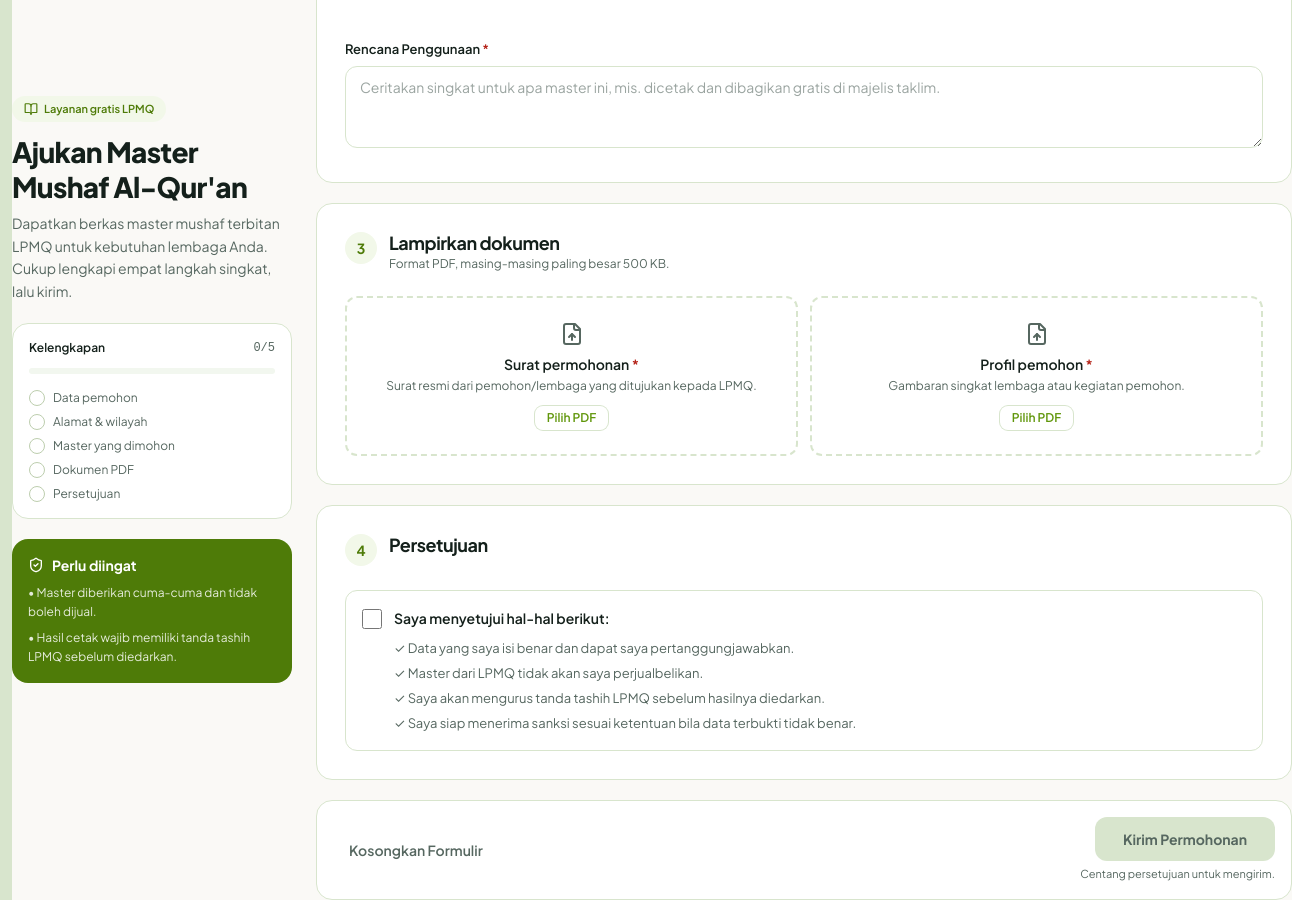
Test: MasterRequestForm (formulir permohonan master penerbit) › tombol Kirim Permohonan nonaktif sampai pernyataan dicentang
The image size is (1292, 900).
(page scrolled)
expect the button "Kirim Permohonan" is disabled: met, box [1095,817,1275,861]
Click the checkbox named "menyetujui pernyataan" at {"x": 372, "y": 619}, box [362,609,382,629]
(page scrolled)
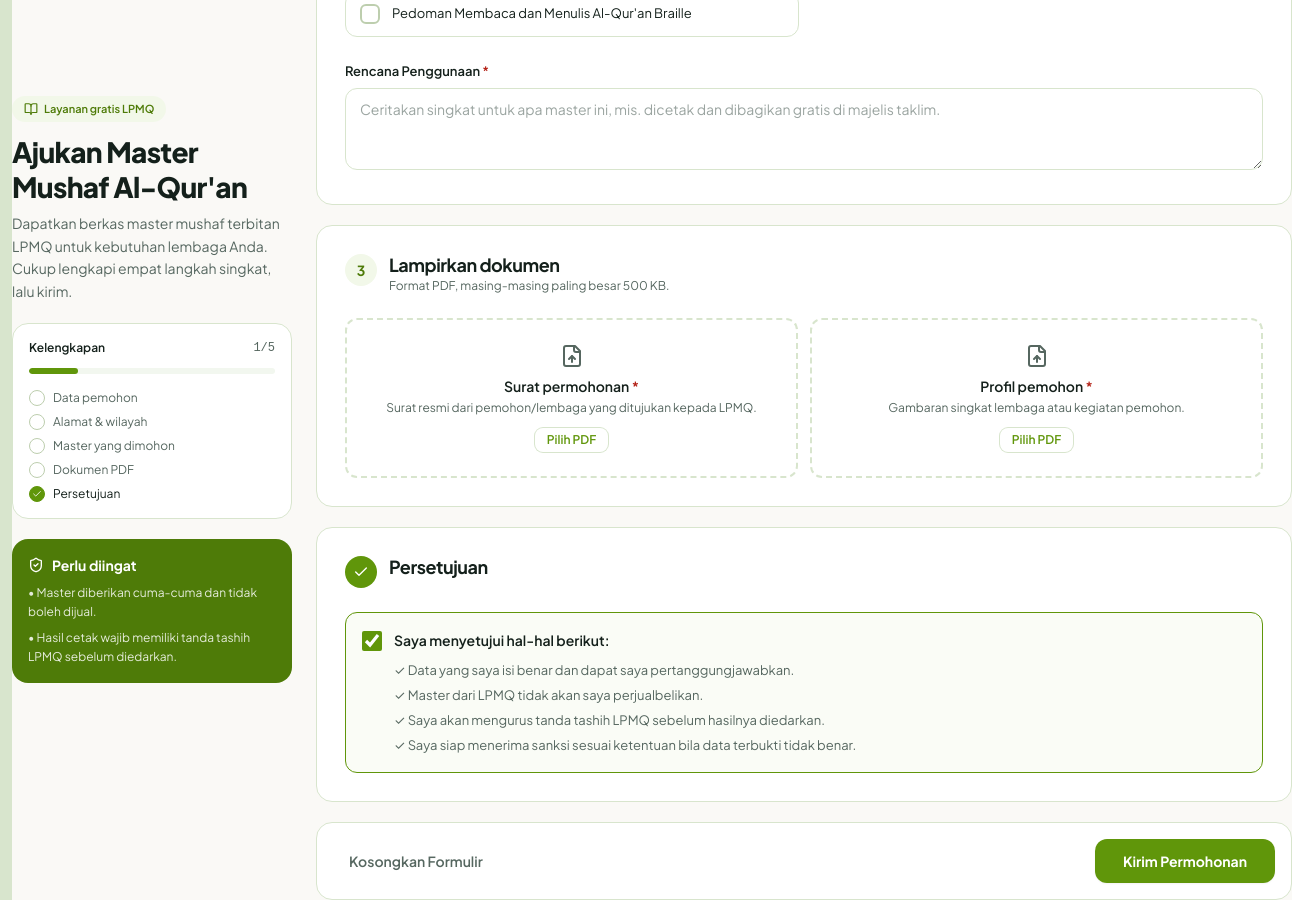
expect the button "Kirim Permohonan" is enabled: met, box [1095,839,1275,883]
